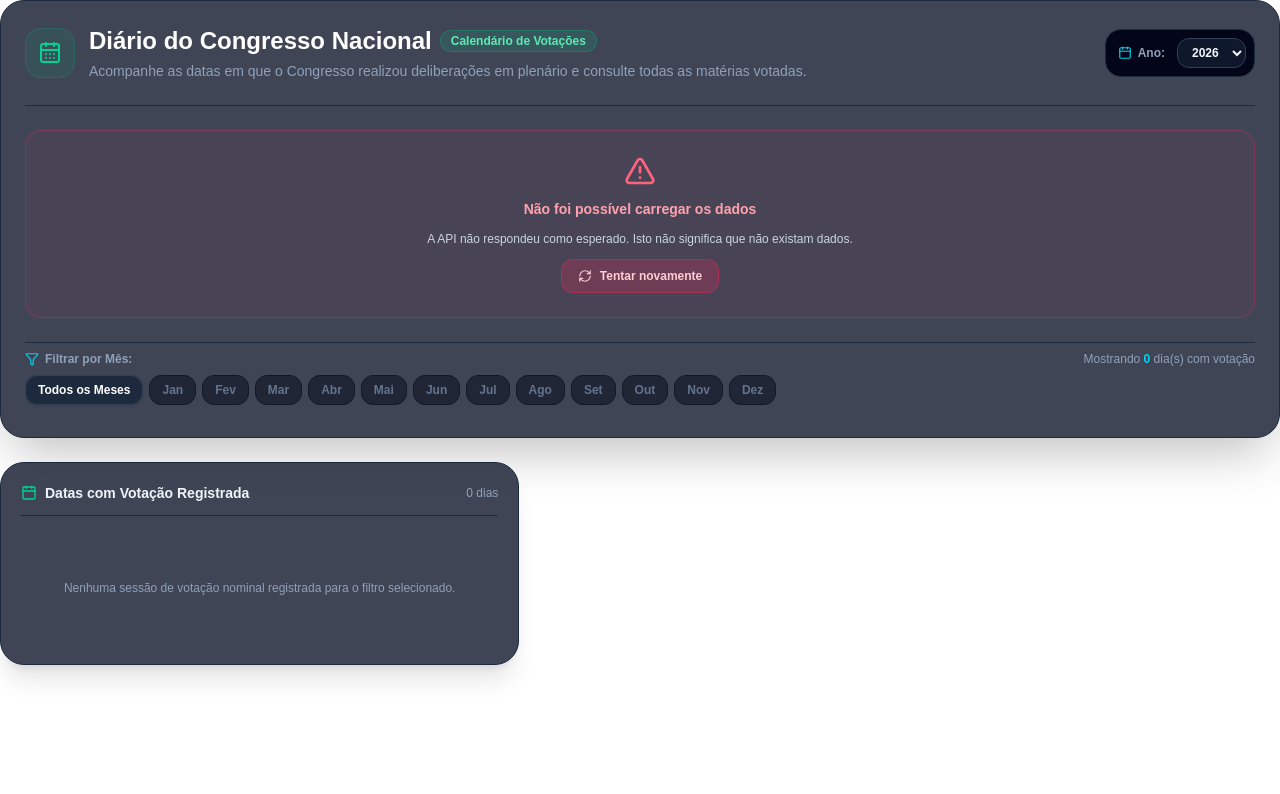
Scenario: VotingCalendarPanel › erro inicial mostra alerta e retry recarrega
The image size is (1280, 794).
Click the button "Tentar novamente" at [640, 276], box [561,259,719,293]
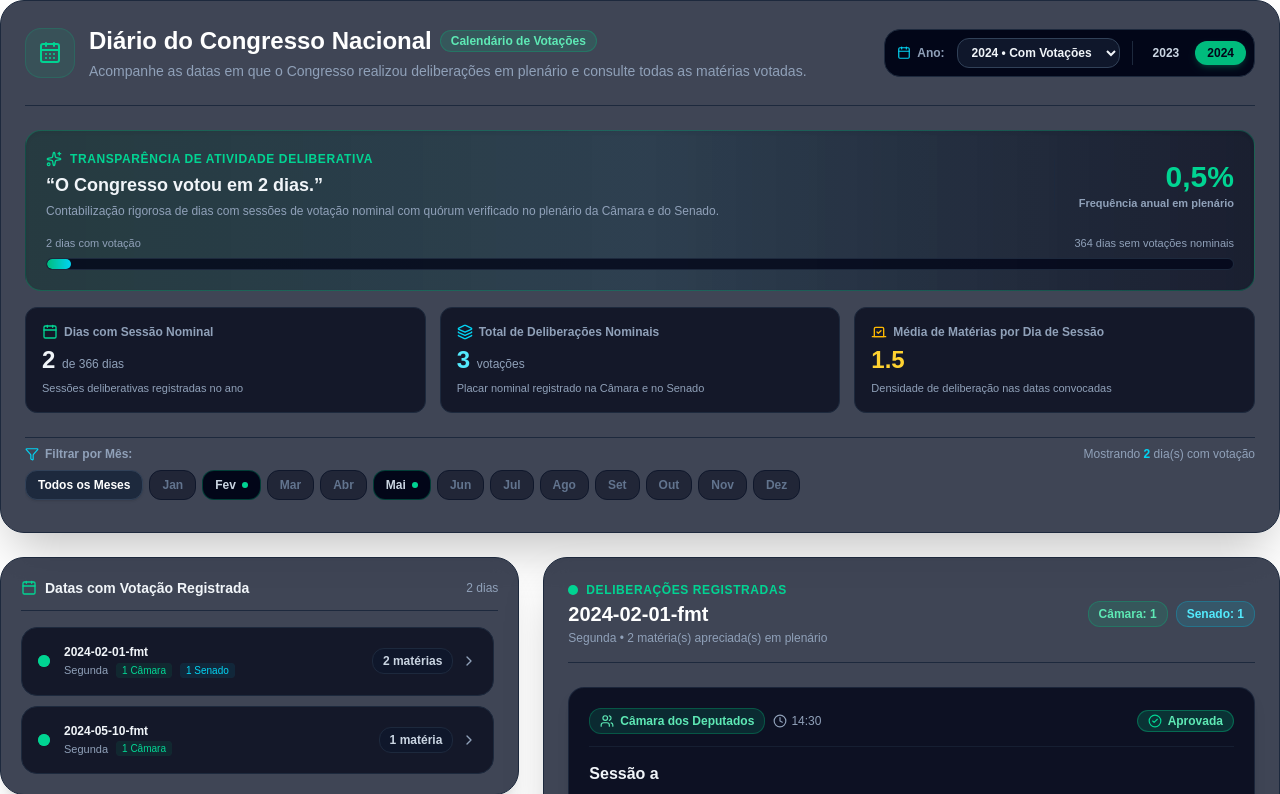
Expected: the heading "Sessão a" is shown, [589,765,659,782]
